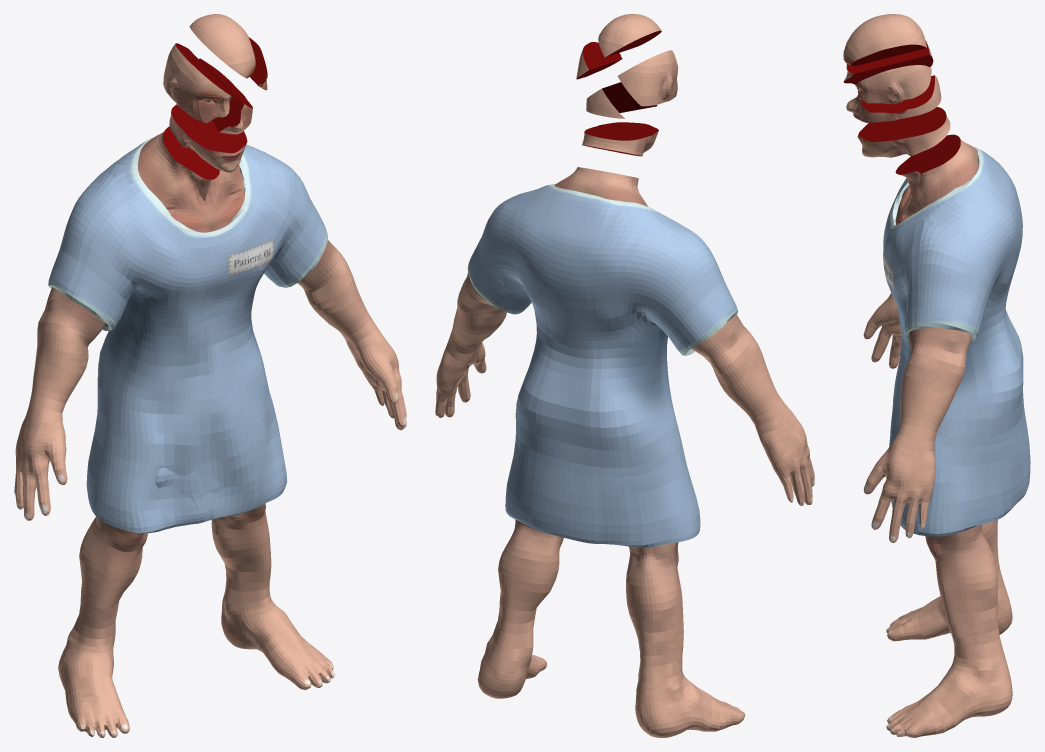
File: mainchardecapated2.fbx
3 views of the same model, side by side, from view 1: azimuth 30°, elevation 25°; view 2: azimuth 150°, elevation 25°; view 3: azimuth 270°, elevation 25° (orthographic). The views are drawn at different scales.
Visible parts, largest first — view 1: polySurface14, polySurface7, polySurface13, polySurface1, polySurface10; view 2: polySurface14, polySurface7, polySurface13, polySurface1, polySurface10, polySurface4; view 3: polySurface14, polySurface13, polySurface1, polySurface4, polySurface10, polySurface7.
Boxes of the visible parts, x1=… form: polySurface14: x1=14, y1=126, x2=406, y2=737; polySurface7: x1=163, y1=43, x2=232, y2=122; polySurface13: x1=169, y1=104, x2=247, y2=172; polySurface1: x1=189, y1=14, x2=255, y2=78; polySurface10: x1=199, y1=58, x2=252, y2=134; polySurface14: x1=435, y1=167, x2=814, y2=737; polySurface7: x1=617, y1=50, x2=678, y2=106; polySurface13: x1=582, y1=122, x2=658, y2=156; polySurface1: x1=598, y1=14, x2=661, y2=57; polySurface10: x1=586, y1=82, x2=656, y2=118; polySurface4: x1=576, y1=42, x2=622, y2=79; polySurface14: x1=863, y1=134, x2=1030, y2=737; polySurface13: x1=857, y1=107, x2=950, y2=157; polySurface1: x1=843, y1=14, x2=926, y2=66; polySurface4: x1=855, y1=65, x2=931, y2=104; polySurface10: x1=846, y1=75, x2=941, y2=122; polySurface7: x1=843, y1=41, x2=933, y2=84.
Bounding box in the file's own units: 9.49 × 16.59 × 4.22.
